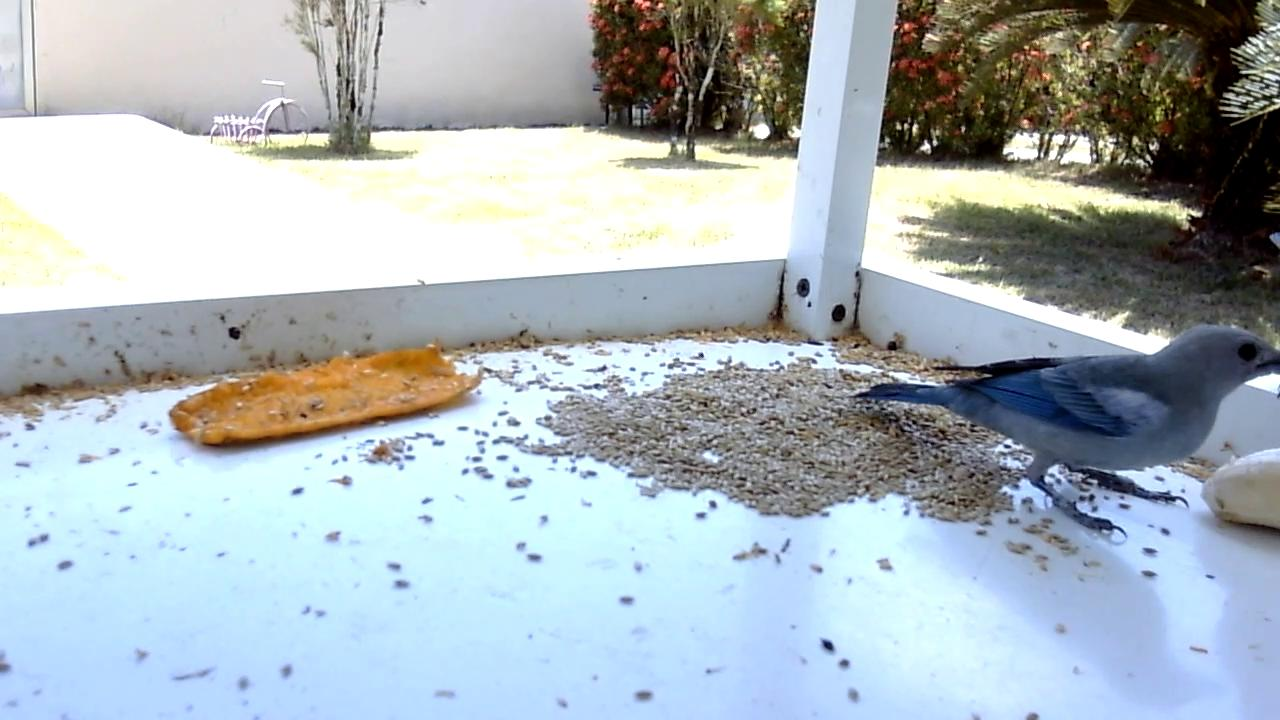sanhaco_da_amazonia: (855, 324, 1280, 540)
